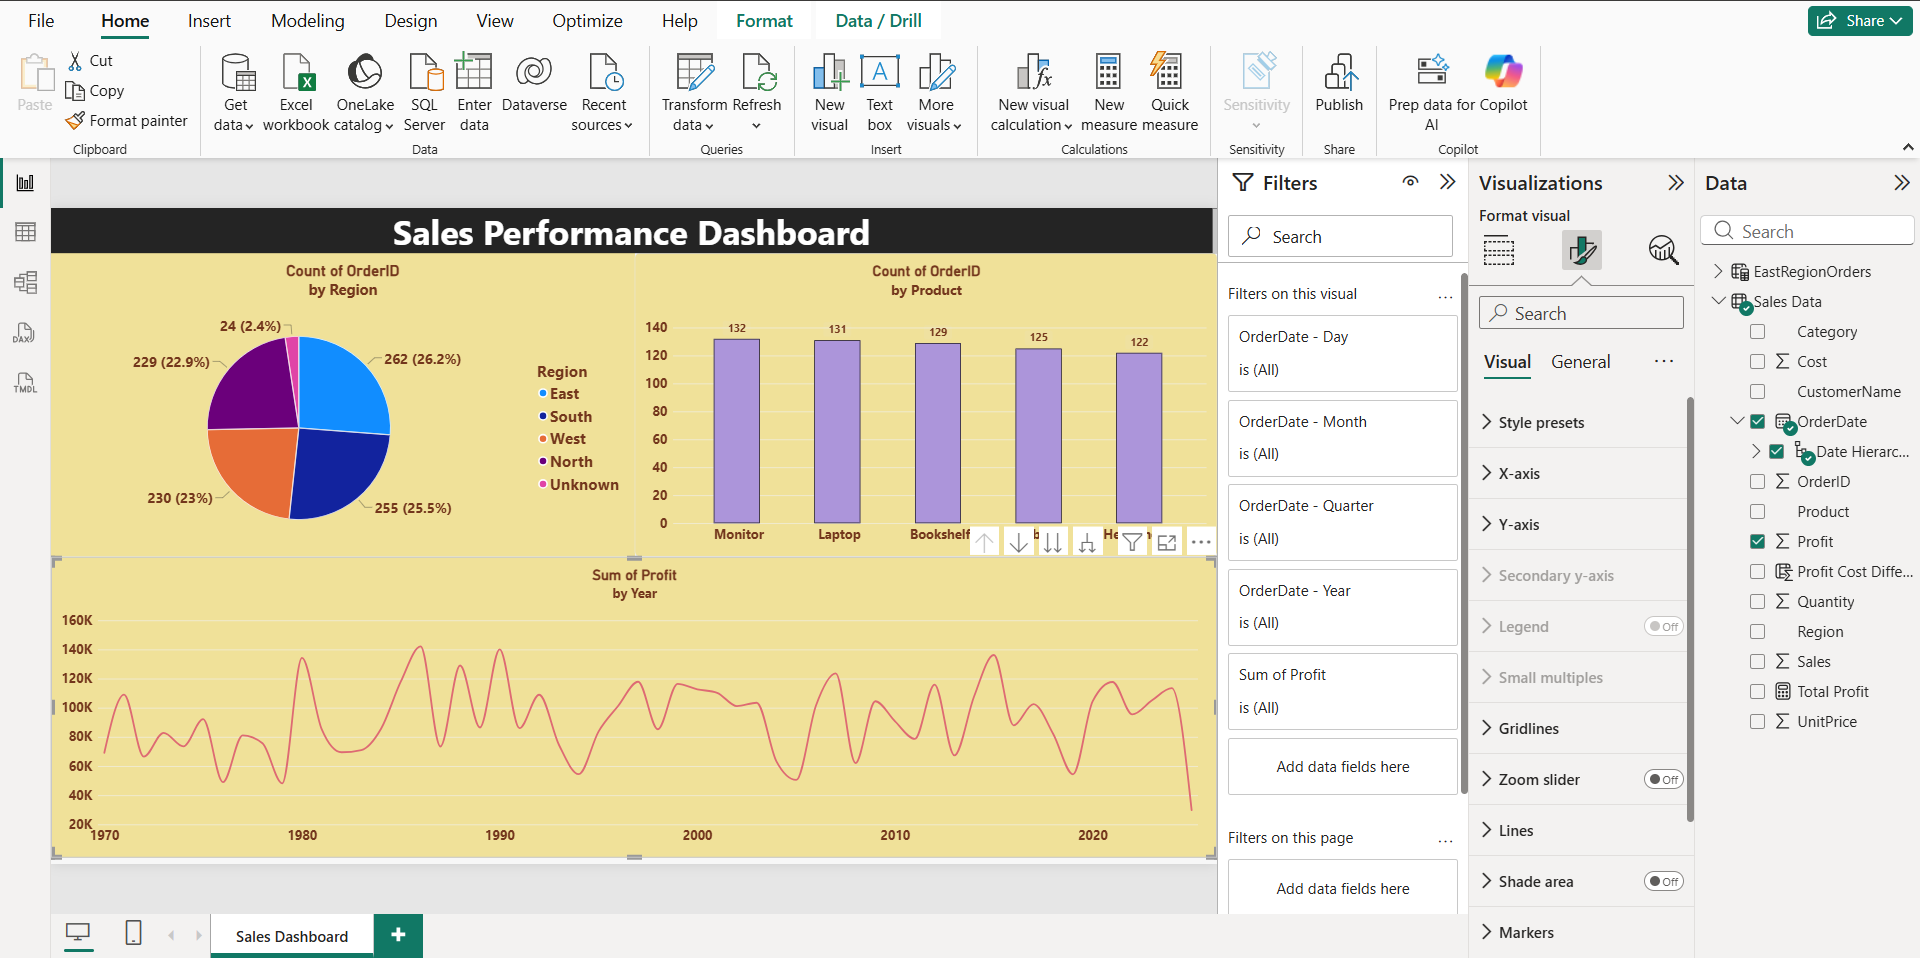

The dashboard page shown, as its layout file describes it:
{"tool":"powerbi","page":{"name":"Sales Dashboard","canvas":[1920,1080],"ordinal":0},"visuals":[{"type":"pieChart","fields":{"Category":["SalesData_1000Rows_WithIssues_c.Region"],"Y":["CountNonNull(SalesData_1000Rows_WithIssues_c.OrderID)"]},"box":[0,74.1,961.2,500.2],"z":0},{"type":"clusteredColumnChart","fields":{"Category":["SalesData_1000Rows_WithIssues_c.Product"],"Y":["CountNonNull(SalesData_1000Rows_WithIssues_c.OrderID)"]},"box":[961.2,74.1,959.2,500.2],"z":1000},{"type":"lineChart","fields":{"Category":["SalesData_1000Rows_WithIssues_c.OrderDate.Variation.Date Hierarchy.Year","SalesData_1000Rows_WithIssues_c.OrderDate.Variation.Date Hierarchy.Quarter","SalesData_1000Rows_WithIssues_c.OrderDate.Variation.Date Hierarchy.Month","SalesData_1000Rows_WithIssues_c.OrderDate.Variation.Date Hierarchy.Day"],"Y":["Sum(SalesData_1000Rows_WithIssues_c.Profit)"]},"box":[0,574.3,1920.4,496.1],"z":2000},{"type":"textbox","box":[0,0,1920.4,74.1],"z":2001}]}

Visuals, with their boxes on the page's 1920x1080 design canvas (x1, y1, x2, y2). These are canvas units, not pixel positions in the 1920x958 screenshot, which may show the page scaled, cropped or inside an application window:
pieChart - SalesData_1000Rows_WithIssues_c.Region x CountNonNull(SalesData_1000Rows_WithIssues_c.OrderID): 0/74/961/574
clusteredColumnChart - SalesData_1000Rows_WithIssues_c.Product x CountNonNull(SalesData_1000Rows_WithIssues_c.OrderID): 961/74/1920/574
lineChart - SalesData_1000Rows_WithIssues_c.OrderDate.Variation.Date Hierarchy.Year x SalesData_1000Rows_WithIssues_c.OrderDate.Variation.Date Hierarchy.Quarter: 0/574/1920/1070
textbox: 0/0/1920/74
